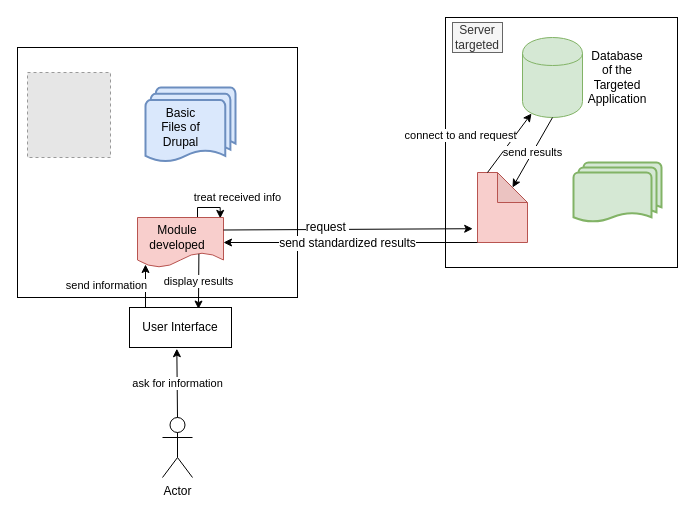
Image size: 695x516. Some labels were removed from this diagram. Grey dashed boxes stand in for pictures. Each missing label, with the box of its shape:
PHP Script: (476, 172, 528, 242)
Targeted application: (572, 161, 662, 223)
